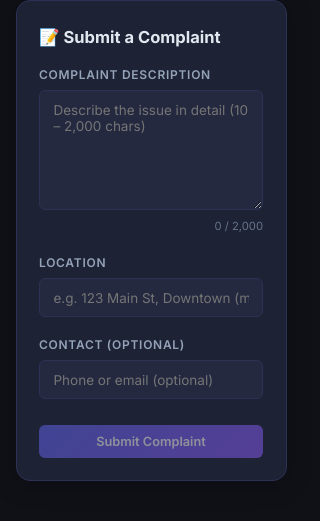
SubmitPage › shows validation error when complaint text is under 10 characters
Type "Short" into the text box labelled "Complaint Description" at (151, 150), box [39,90,263,210]
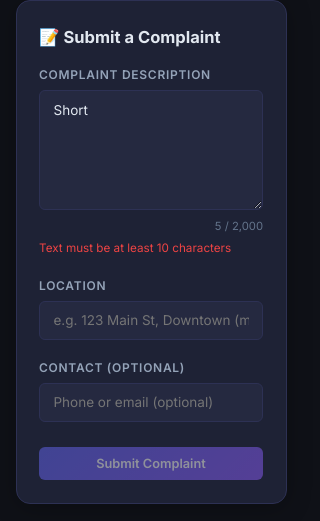
Expected: the text "Text must be at least 10 characters" is shown, [39,239,263,258]
